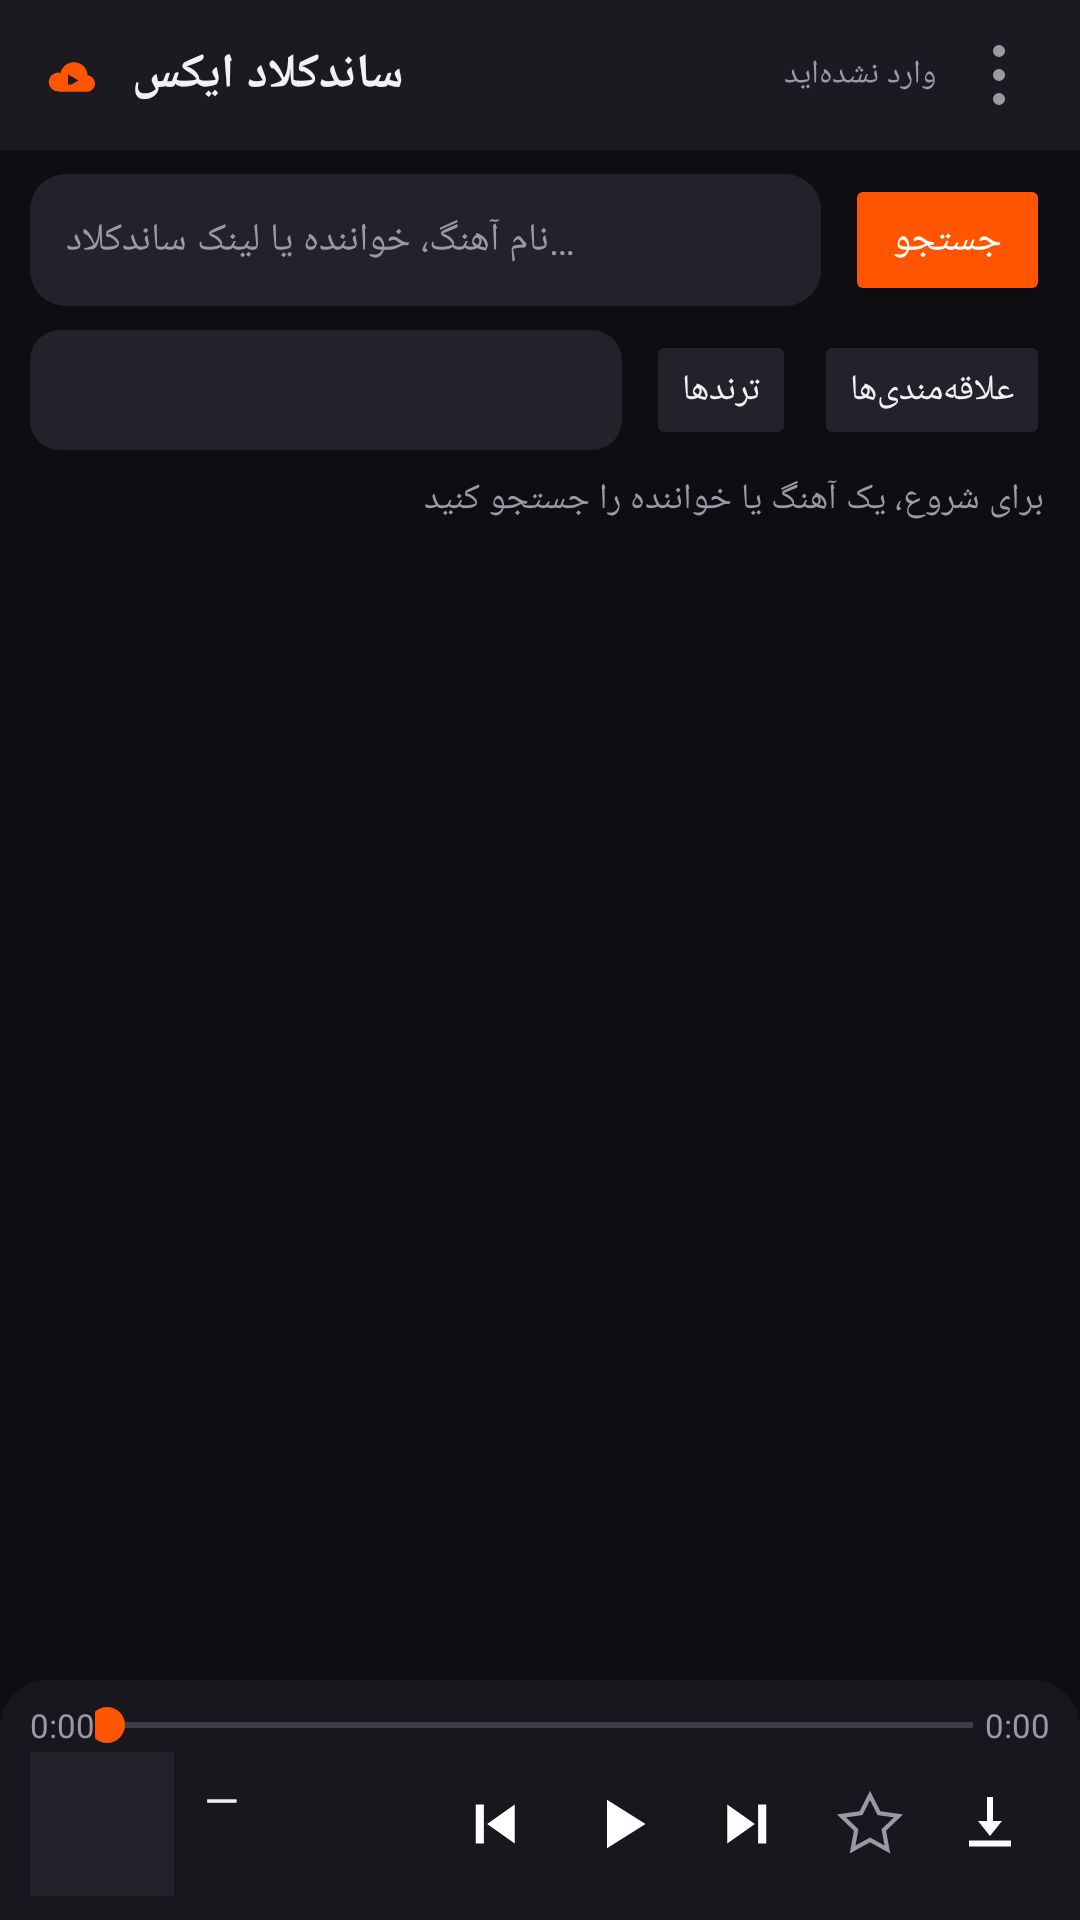

Named icons in this screenshot (1080×1920) and their centers, [x,y]:
cloud: [71,77]
play: [626,1824]
prev: [495,1824]
star off: [870,1822]
دانلود: [990,1822]
پخش بعدی: [747,1824]
